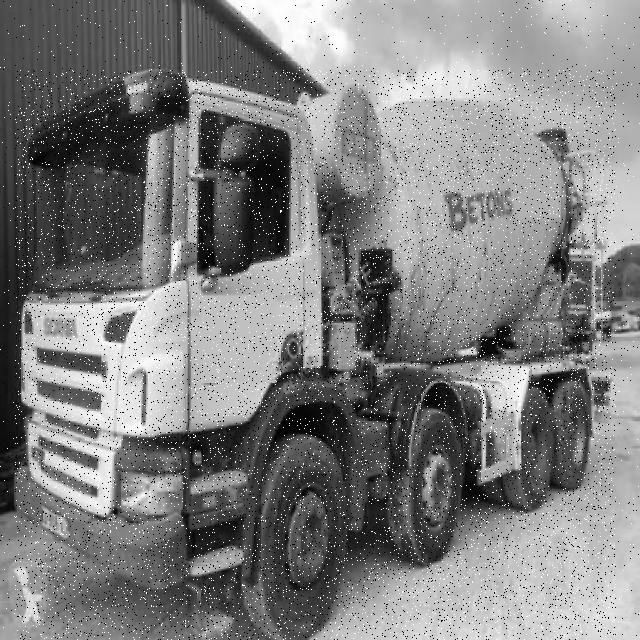Concrete Mixer: (15, 70, 616, 640)
